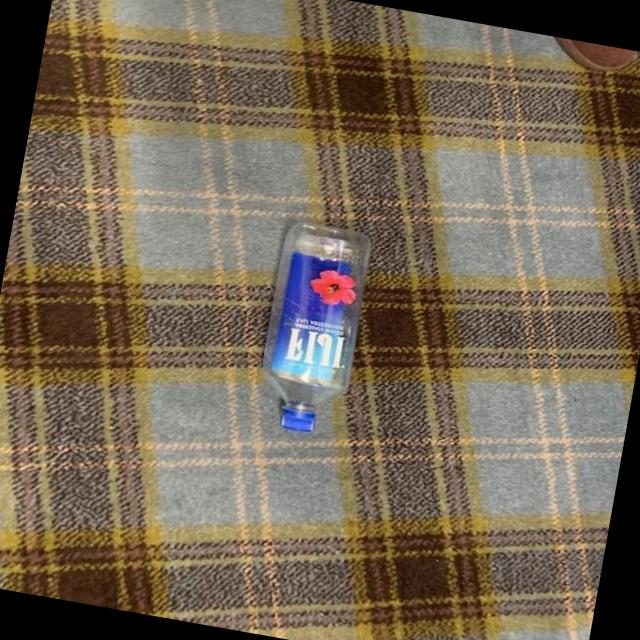plastic_bottle: (252, 219, 376, 438)
